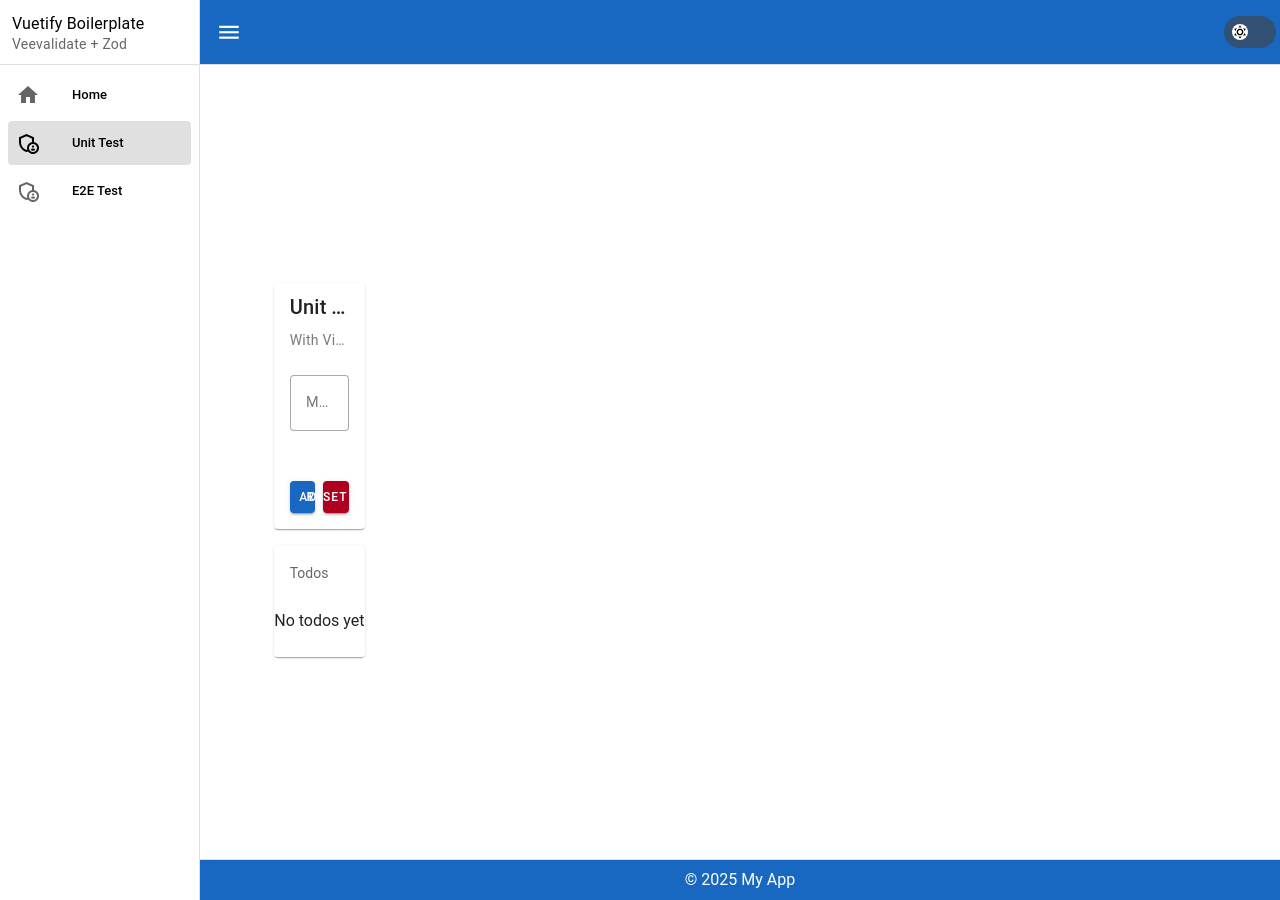
Test: Unit Test Page › create todo
Type "New todo" into the field labelled "Masukkan Todo" at (313, 403), box [290,375,337,431]
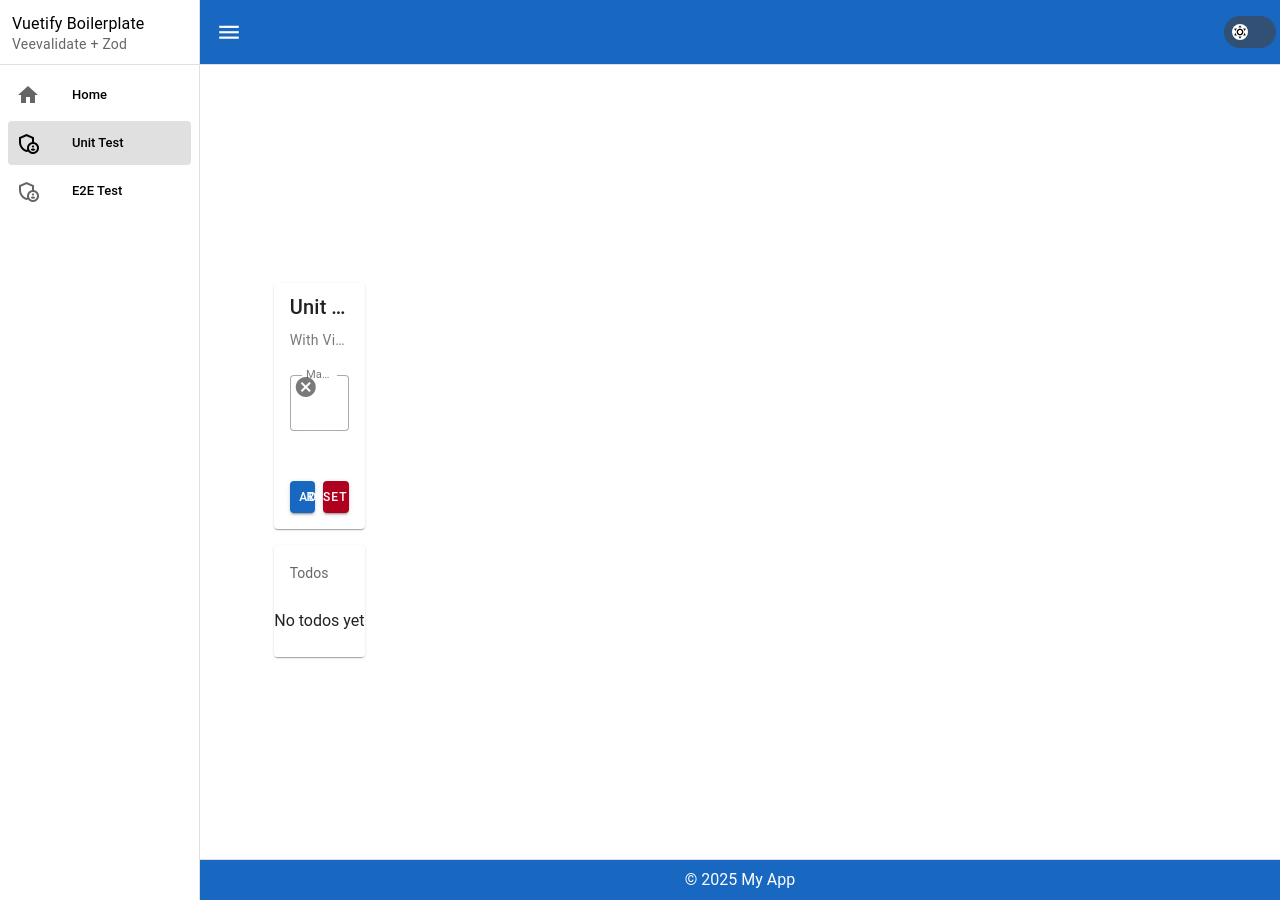
Submit the form from the button with test id "add-todo", box [290,481,315,513]
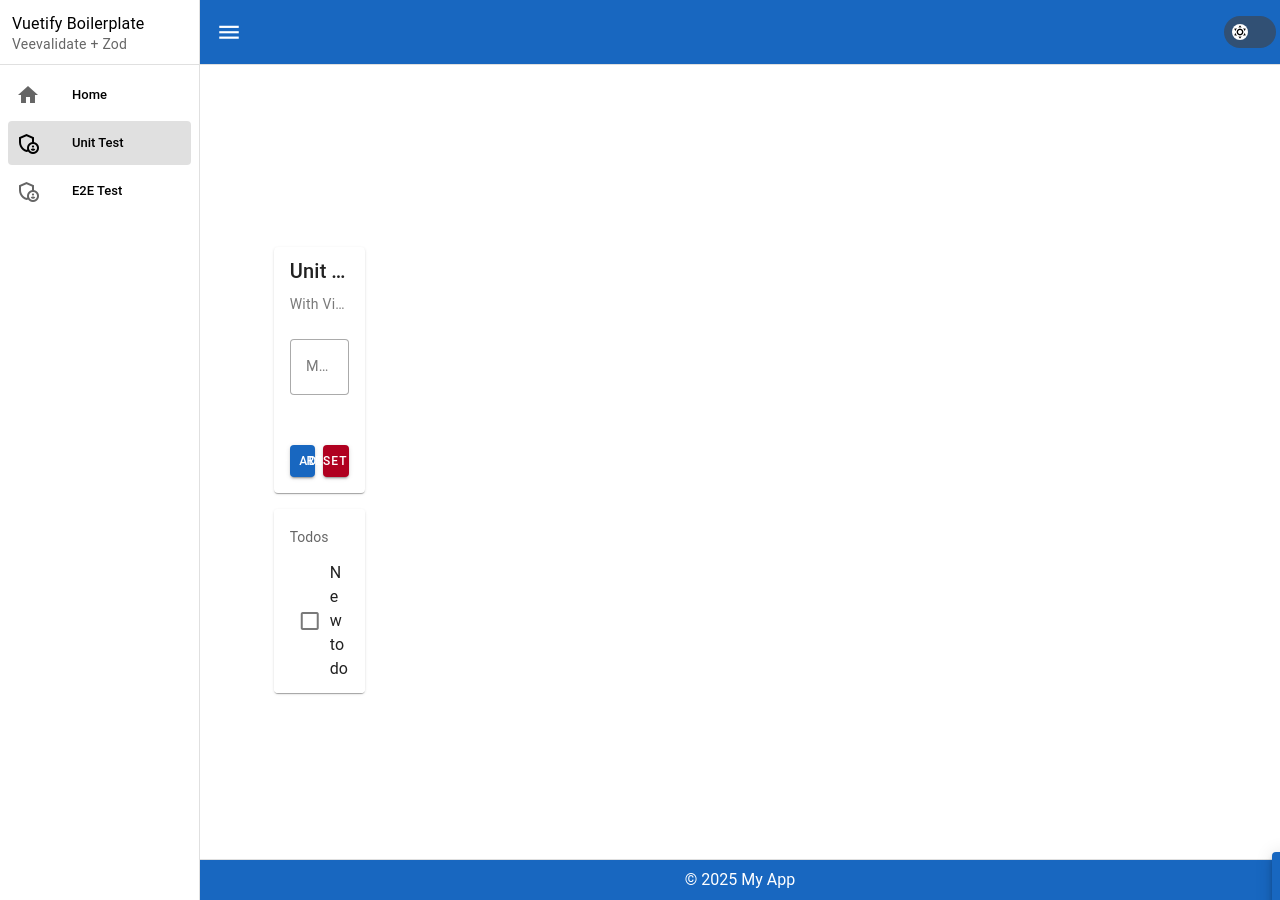
Now the number of list items with test id "todo-list" is 1, box [274,557,365,685]
